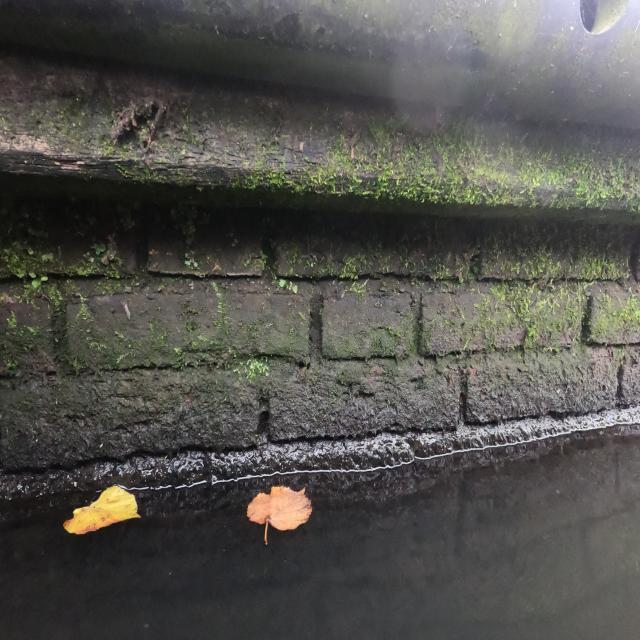water: (0, 426, 638, 634)
